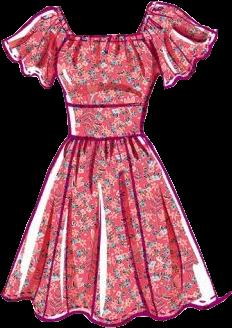Bodice: (55, 34, 157, 139)
Hemline: (0, 294, 221, 327)
Neckline: (64, 100, 149, 108), (69, 32, 140, 36)
Skirt: (1, 134, 219, 326)
Sleeve: (136, 0, 217, 89), (1, 6, 71, 88)
Sleeveline: (138, 1, 161, 77), (53, 6, 74, 77)
Waistline: (67, 132, 145, 141)
